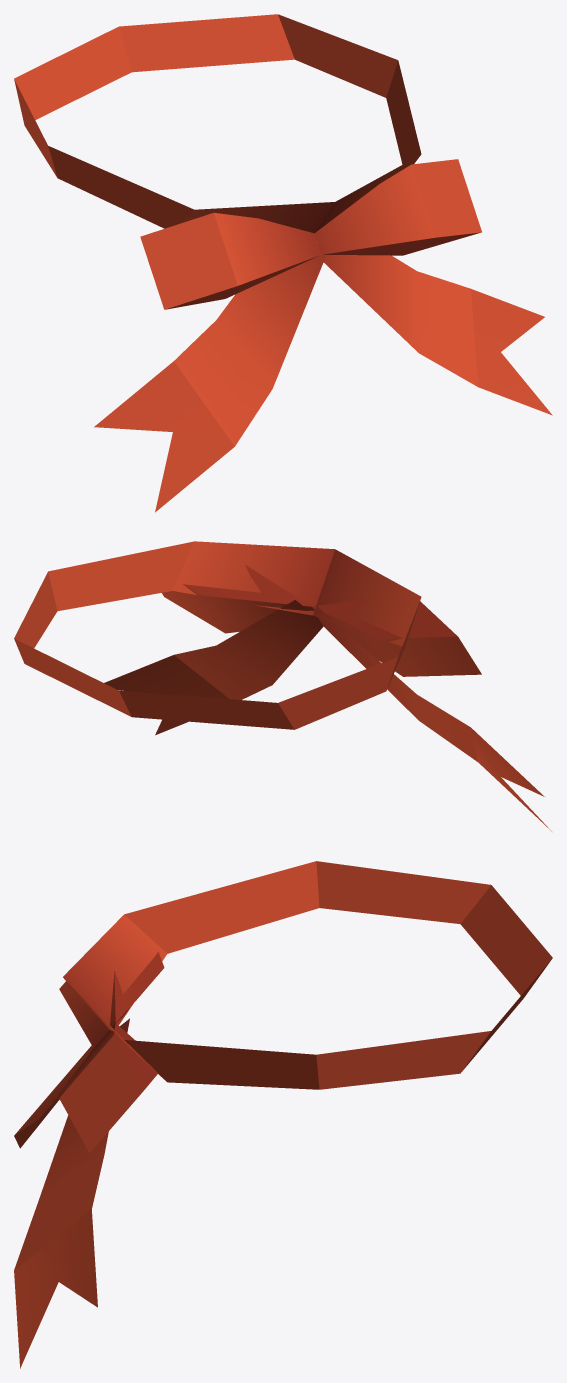
File: human-clothing-ribbon-bow_v1.glb
3 views of the same model, one above another, from view 1: azimuth 30°, elevation 25°; view 2: azimuth 150°, elevation 25°; view 3: azimuth 270°, elevation 25° (orthographic). The views are drawn at different scales.
Parts seen in each view (by area): view 1: Ribbon Bow; view 2: Ribbon Bow; view 3: Ribbon Bow.
Boxes of the visible parts, x1,y1,x2,y2 form: Ribbon Bow: (14,14,552,512); Ribbon Bow: (14,541,551,831); Ribbon Bow: (14,861,552,1368).
Size of the model in its own units: 0.3 by 0.1686 by 0.2737.
